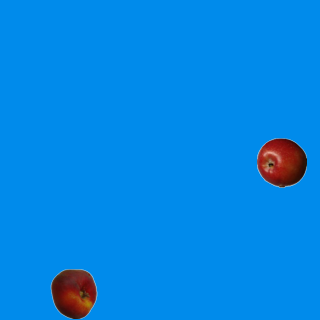Apple Braeburn: (256, 137, 306, 187)
Nectarine Flat: (48, 268, 98, 318)
